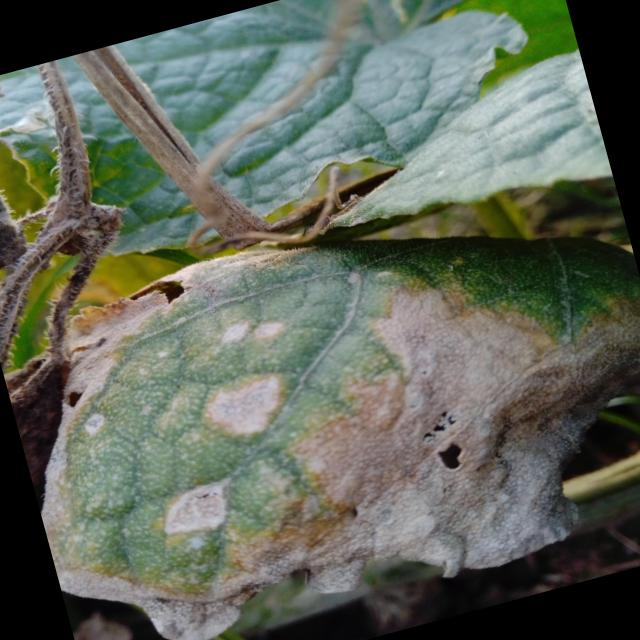cucumber_gummy: (0, 138, 640, 640), (0, 75, 49, 286)
